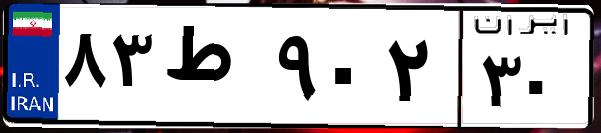0: (330, 28, 385, 110), (525, 38, 570, 115)
2: (385, 28, 445, 110)
3: (475, 38, 525, 113), (110, 28, 158, 98)
8: (57, 26, 110, 100)
9: (270, 28, 330, 110)
ط: (158, 20, 270, 120)
